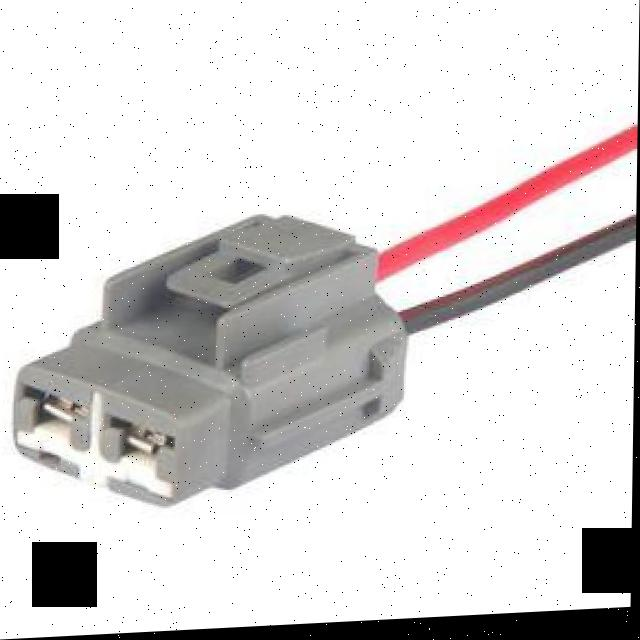connector: (0, 173, 442, 565)
